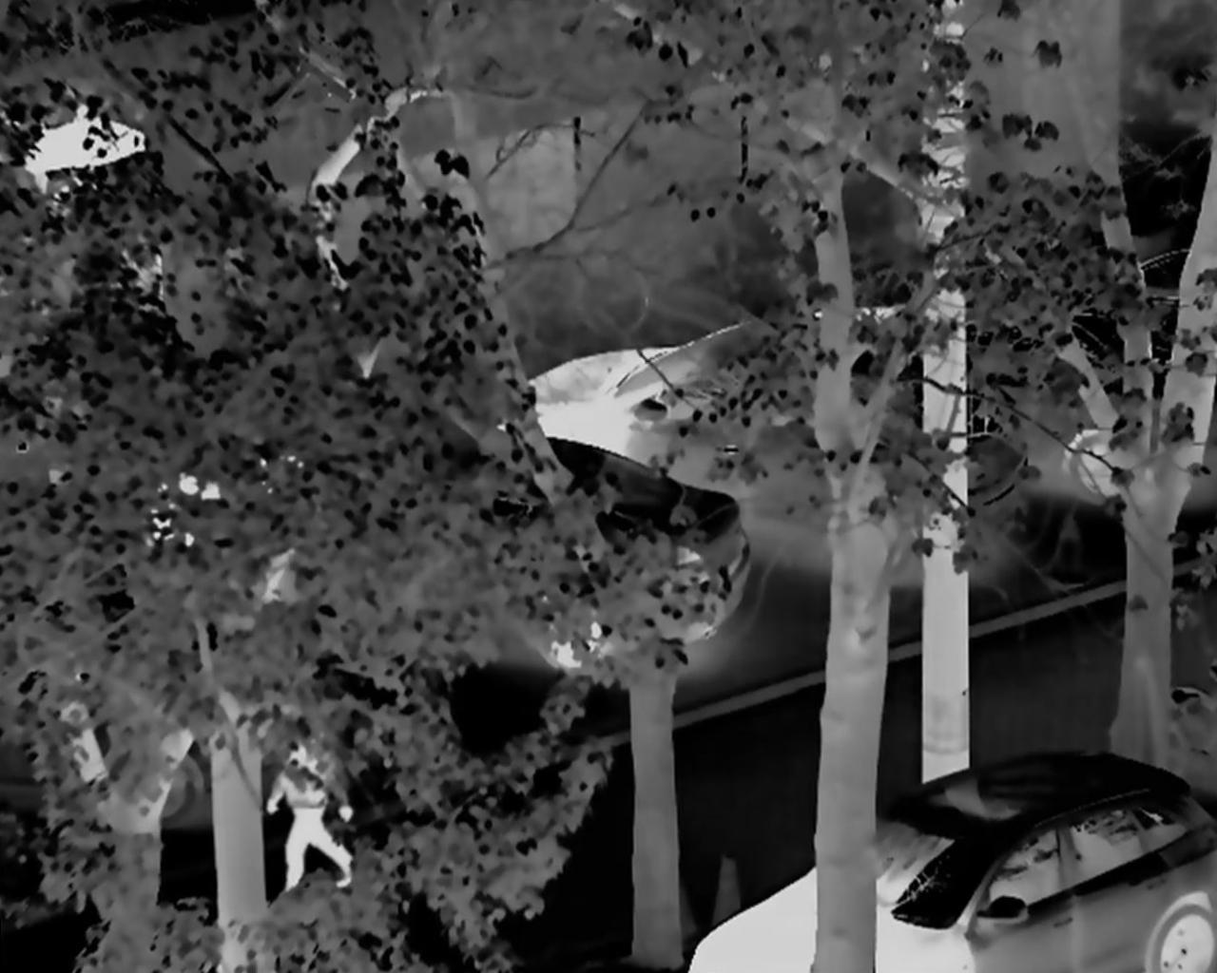person: (262, 719, 359, 905)
